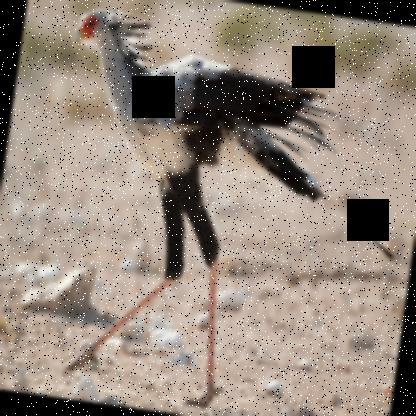Sagittarius serpentarius: (23, 0, 415, 415)
